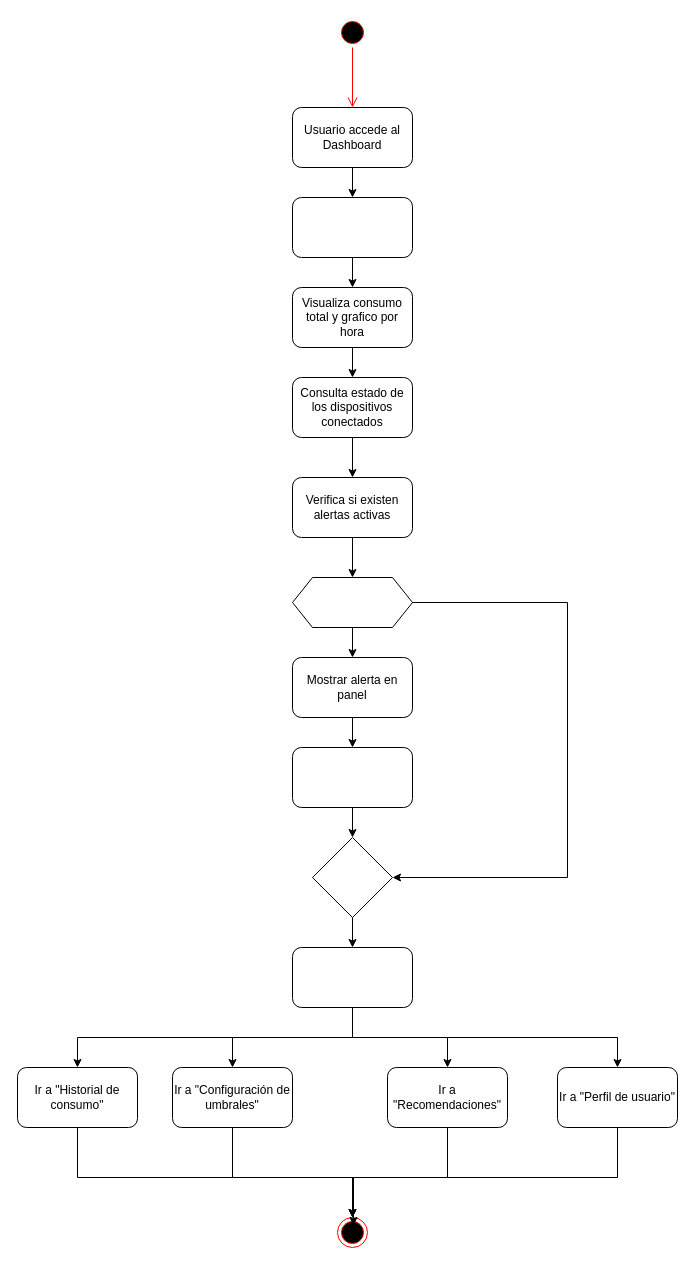
Image size: 695x1265. Some labels were removed from this diagram. The shapes that lost their labels are listed below. From the top down, each one's centre as x and y in pixels, then its label:
At (352,227): "Sistema obtiene datos de consumo actuales".
At (352,602): "¿Alertas activas?".
At (352,777): "Permitir abrir detalles".
At (352,977): "Usuario puede seleccionar opciones".
